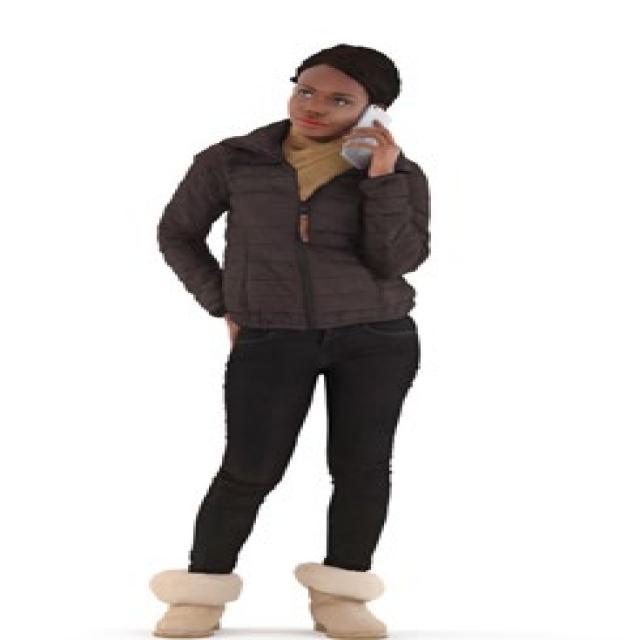standing: (139, 42, 434, 640)
